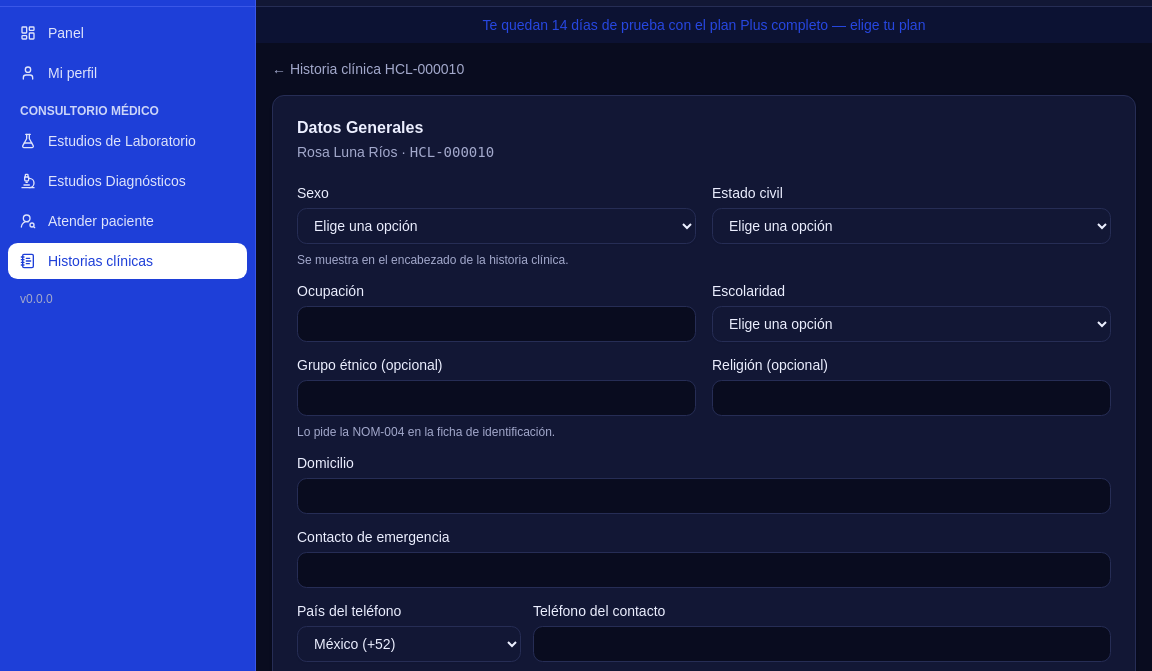
it: Datos Generales (F9-CLINIC-WEB-14) › un teléfono inválido muestra el error y no envía
The image size is (1152, 671).
Type "abc" into the field labelled "Teléfono del contacto". click: (822, 644)
box: x1=533 y1=626 x2=1111 y2=662
(page scrolled)
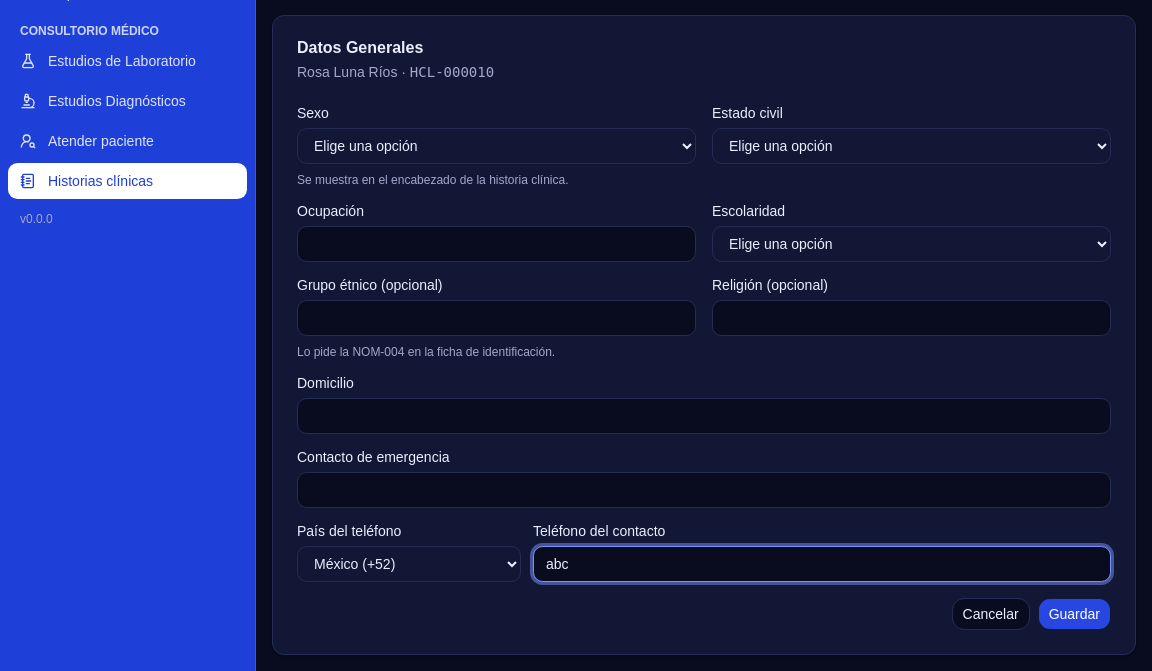
Click the button "Guardar". click: (1074, 614)
box: x1=1038 y1=598 x2=1111 y2=630
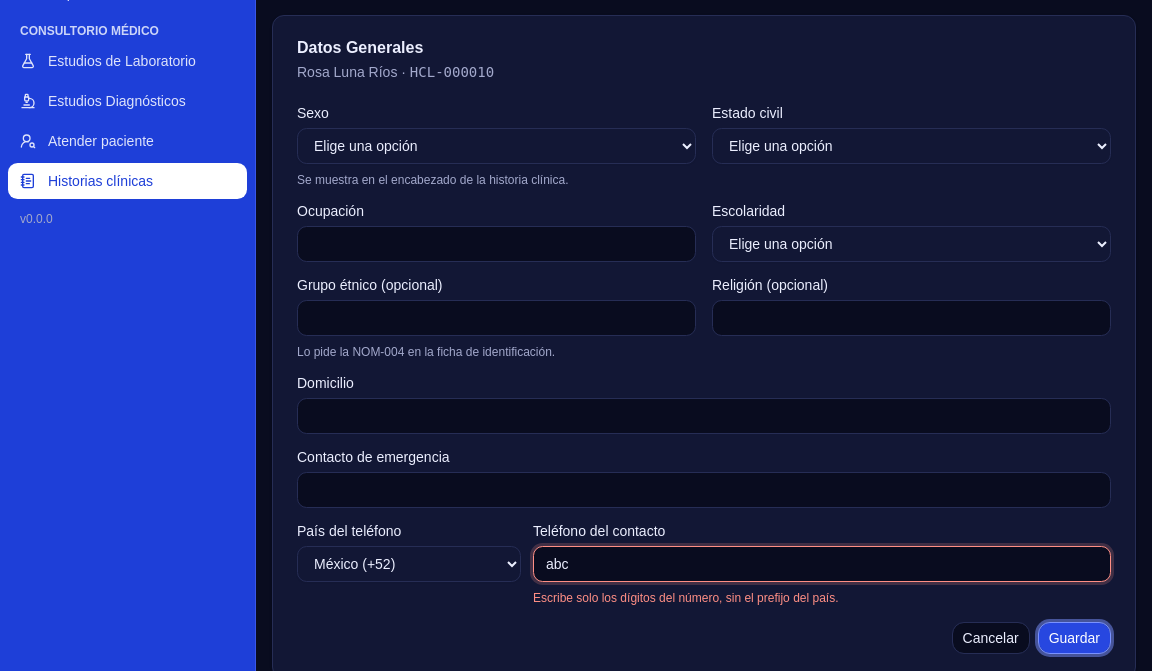
Expected: the message "Escribe solo los dígitos del número, sin el prefijo del país." is shown, x1=533 y1=591 x2=838 y2=605
